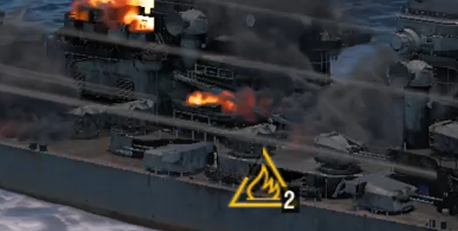2fire: (226, 171, 303, 213)
